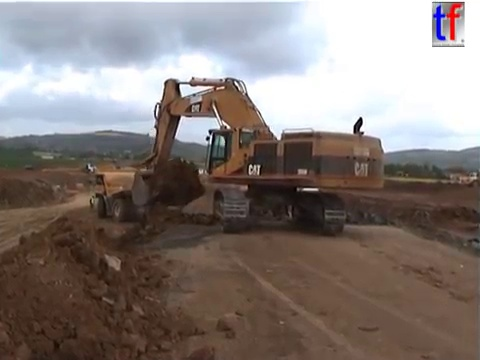excavator: (128, 74, 389, 238)
truck: (88, 162, 197, 224), (458, 170, 479, 188), (80, 163, 98, 174)
worker: (88, 193, 96, 212)
